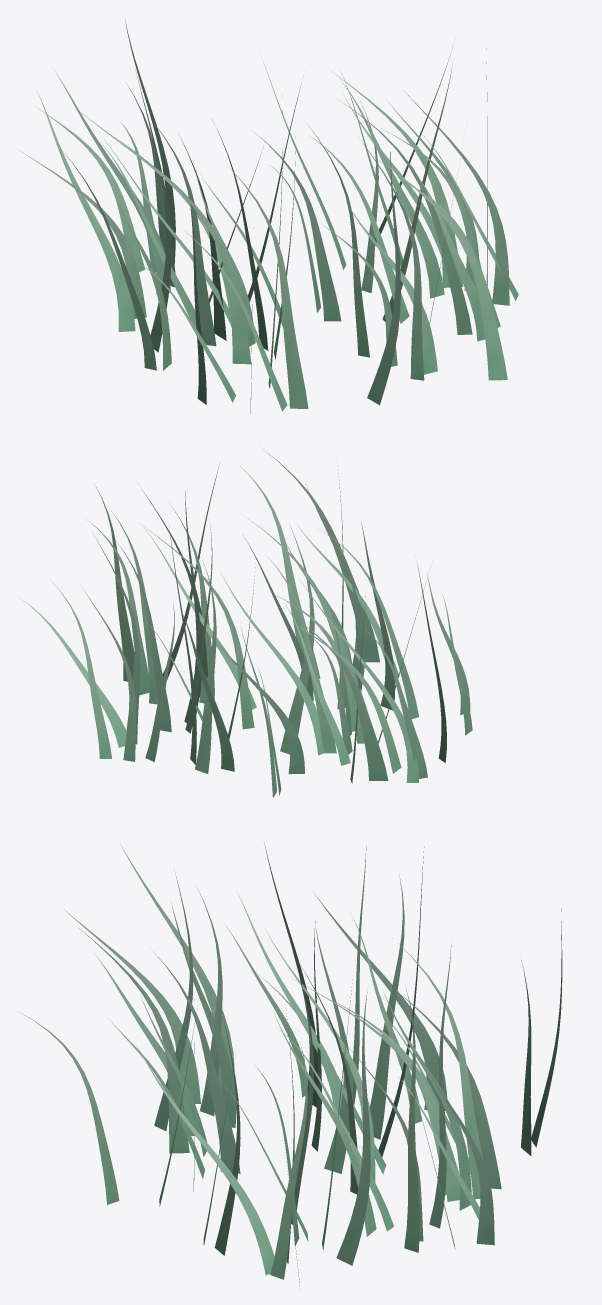
The model's file is mesh-plant-002-sabre-grass_LOD0.glb.
3 views of the same model, one above another, from view 1: azimuth 30°, elevation 25°; view 2: azimuth 150°, elevation 25°; view 3: azimuth 270°, elevation 25° (orthographic). The views are drawn at different scales.
Visible parts, largest first — view 1: geometry_0; view 2: geometry_0; view 3: geometry_0.
Part boxes in pixels (bbox=[...]): geometry_0: bbox=[19, 19, 518, 413]; geometry_0: bbox=[20, 450, 472, 797]; geometry_0: bbox=[19, 843, 562, 1289].
Size of the model in its own units: 2.29 by 1.08 by 2.11.
